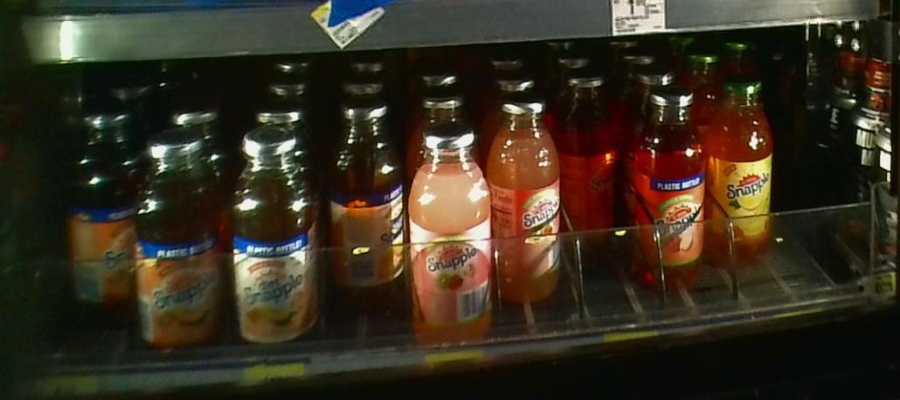bottle: (225, 119, 317, 347), (407, 127, 494, 352), (138, 127, 221, 352), (631, 85, 714, 294), (325, 100, 405, 305), (65, 102, 136, 313), (495, 97, 561, 304), (715, 75, 778, 266), (564, 62, 621, 252)
